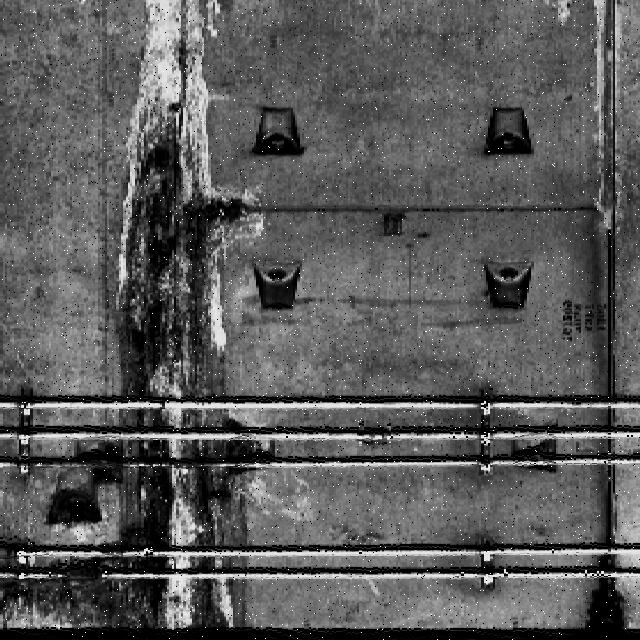leakage: (90, 1, 252, 639), (585, 521, 637, 631)
